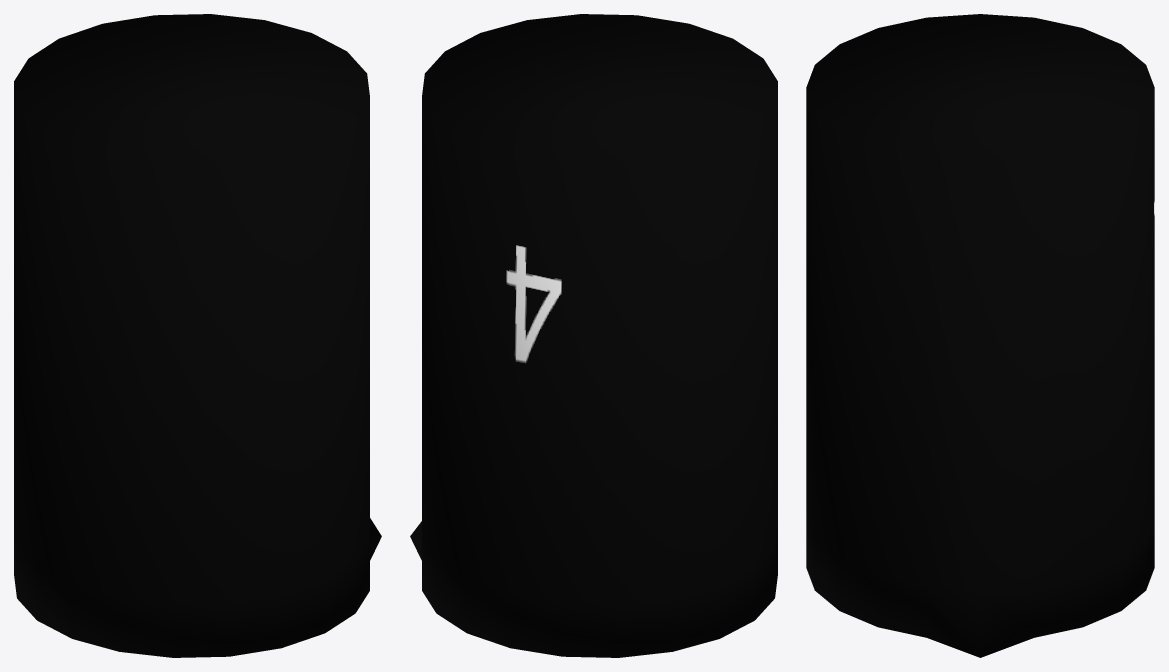
Rendered from Beaker4.fbx.
3 renders of one model, left to right at view 1: azimuth 30°, elevation 25°; view 2: azimuth 150°, elevation 25°; view 3: azimuth 270°, elevation 25°, orthographic. The views are drawn at different scales.
Parts seen in each view (by area): view 1: Beaker4; view 2: Beaker4; view 3: Beaker4.
Boxes of the visible parts, x1=… form: Beaker4: x1=14, y1=14, x2=381, y2=657; Beaker4: x1=410, y1=14, x2=777, y2=657; Beaker4: x1=806, y1=14, x2=1154, y2=657.
Bounding box in the file's own units: 42.58 × 58.22 × 38.27.
Materials: 1 (1 with a texture image).
